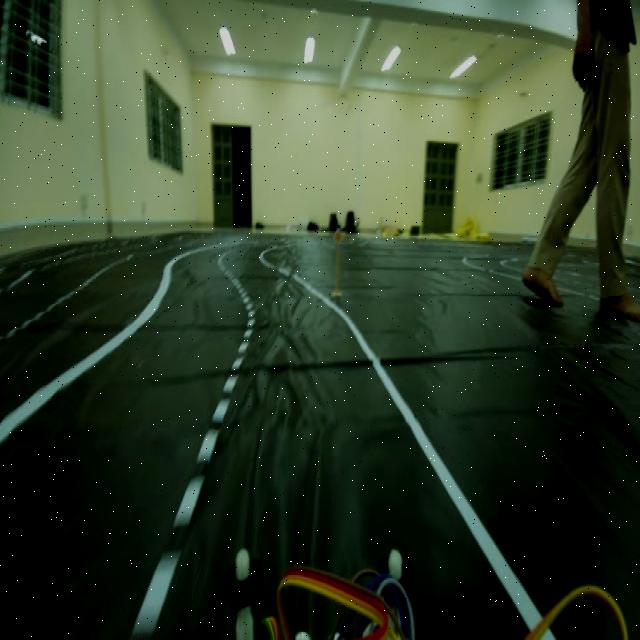priority: (330, 226, 342, 248)
